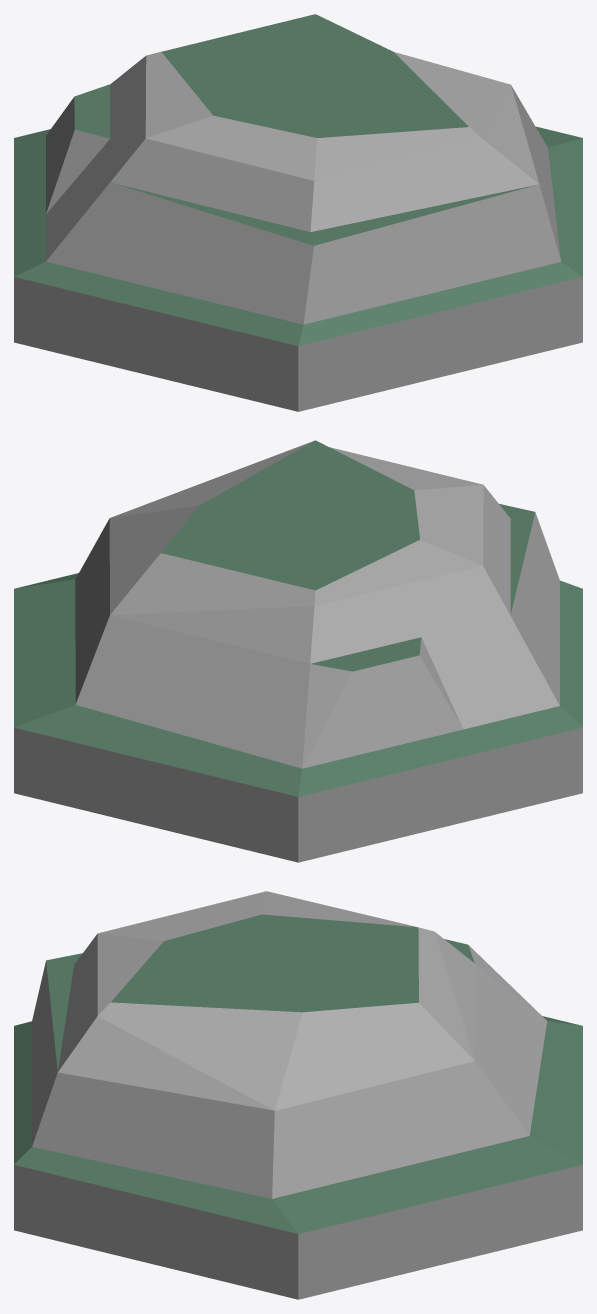
Rendered from Hex11.fbx.
The picture shows the model from 3 angles, top to bottom: view 1: azimuth 30°, elevation 25°; view 2: azimuth 150°, elevation 25°; view 3: azimuth 270°, elevation 25°; orthographic projection.
Visible parts, largest first — view 1: Hex011; view 2: Hex011; view 3: Hex011.
Part boxes in pixels (<box>): Hex011: <box>14,14,582,411</box>; Hex011: <box>14,440,582,862</box>; Hex011: <box>14,891,582,1299</box>.
Bounding box in the file's own units: 1.67 × 0.5493 × 1.44.
